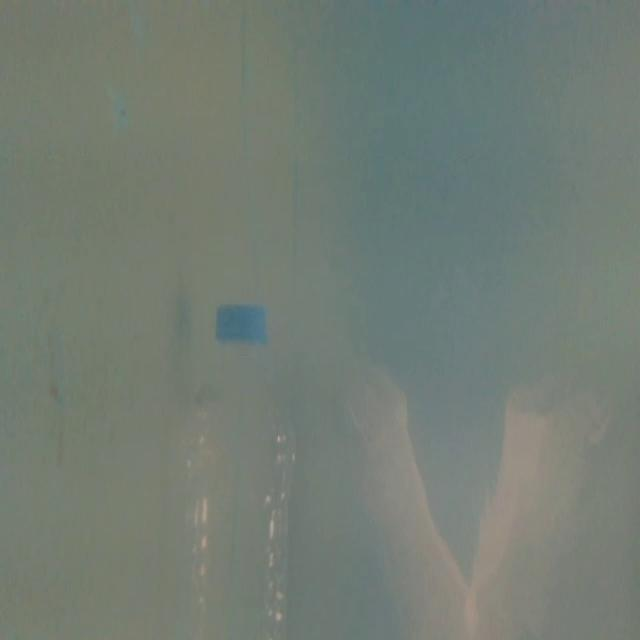plastic bags: (342, 353, 588, 640)
plastic bottle: (172, 297, 303, 640)
